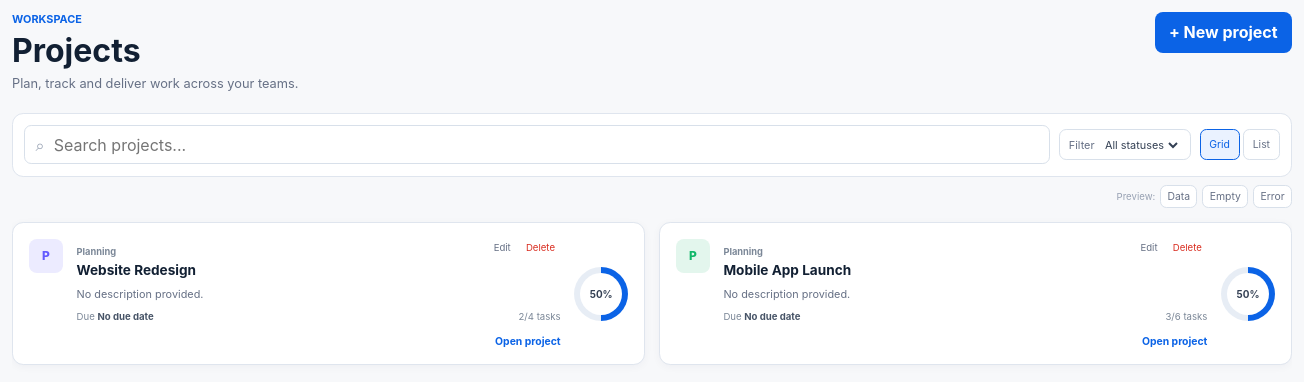
Test: project filtering › shows projects returned by the service and filters them by name
The image size is (1304, 382).
Expected: the heading "Website Redesign" is shown, [77,262,196,278]
Expected: the heading "Mobile App Launch" is shown, [723,262,851,278]
Type "mobile" into the search field named "Search projects" at (545, 145), box [52,134,1039,156]
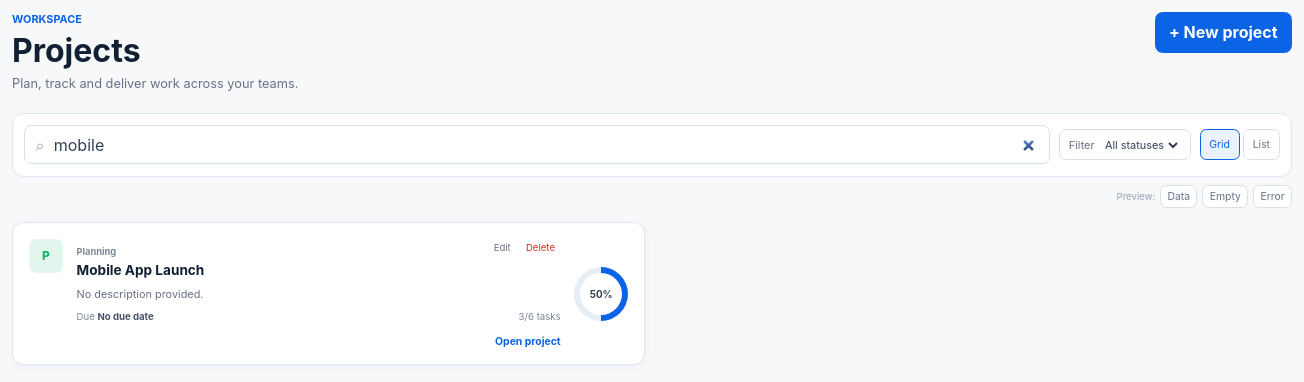
Expected: the heading "Mobile App Launch" is shown, [77,262,204,278]
Expected: the heading "Website Redesign" is gone
